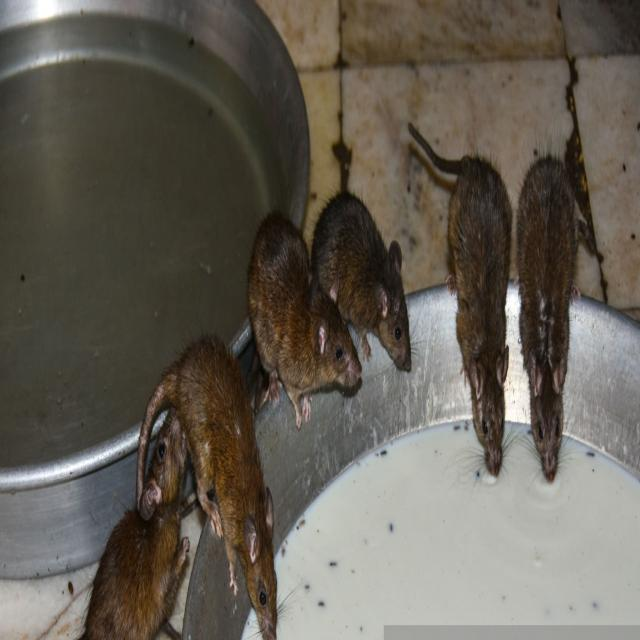rat: (178, 333, 282, 631), (455, 158, 510, 470), (250, 236, 356, 396), (521, 156, 565, 469)
